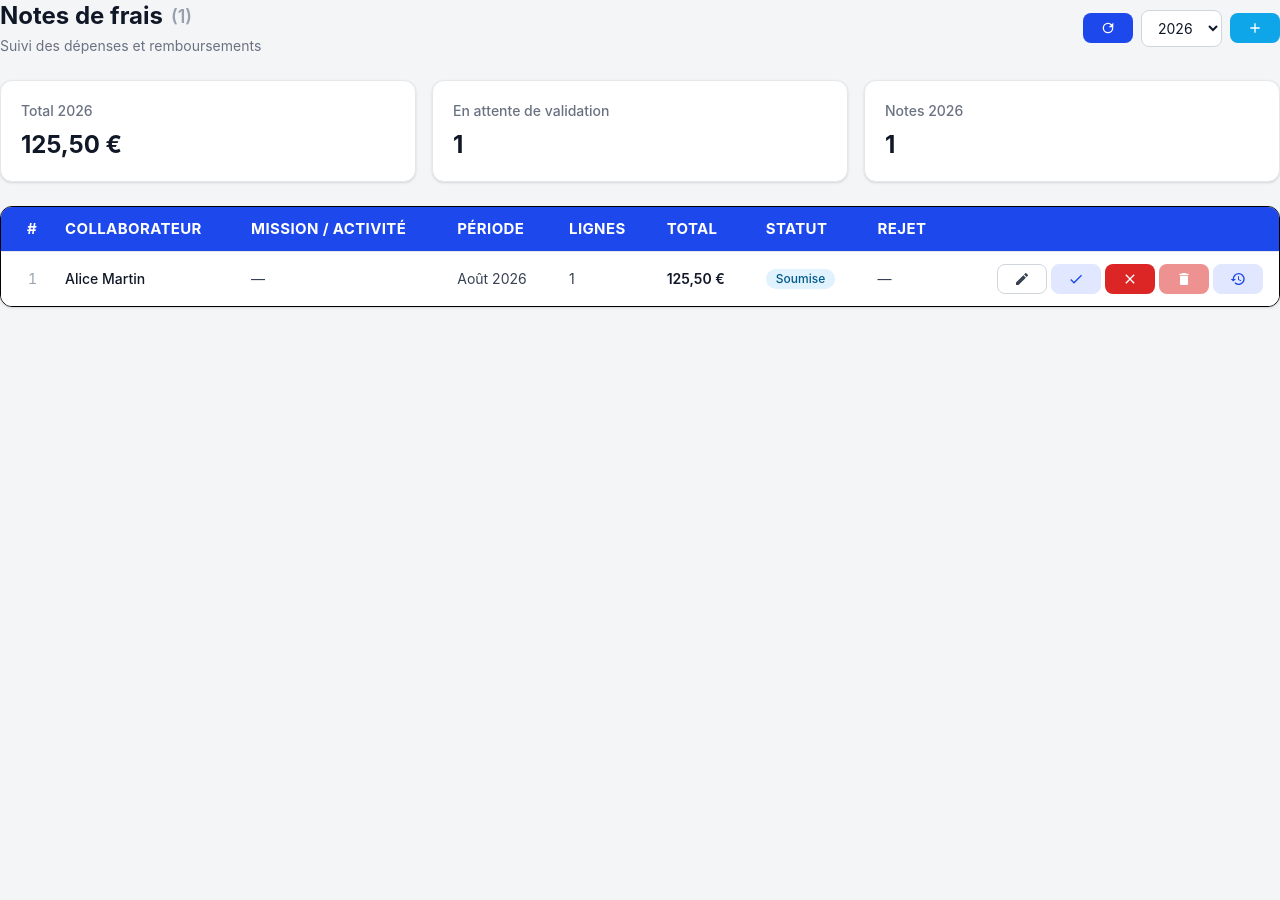
Scenario: NoteFraisList › interdit la suppression de ligne sur une note soumise hors manager du collaborateur
Step 1. Click the text "Alice Martin" → click(105, 278), box [1,252,1279,306]
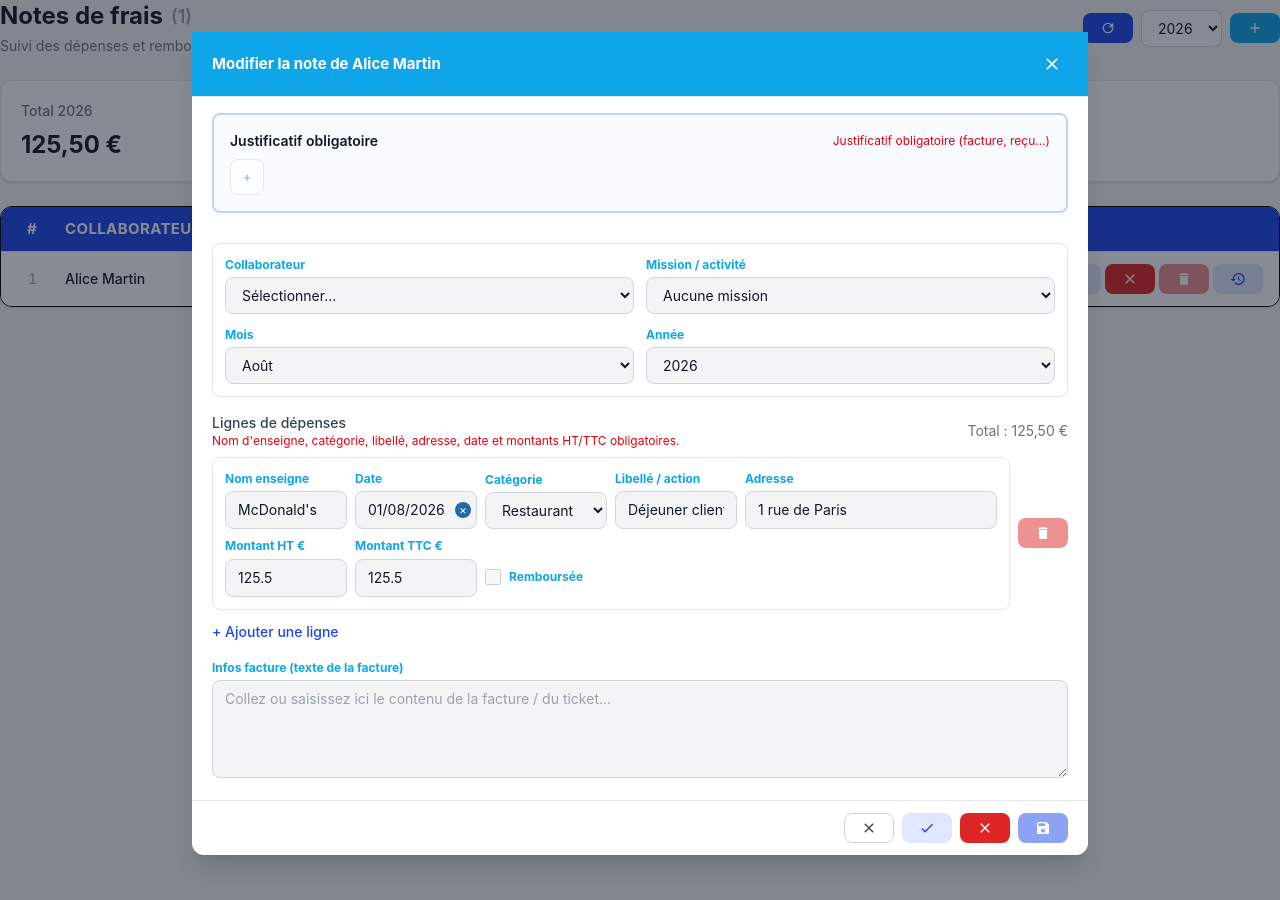
Check: the button named "Enregistrer" is disabled, box [1018,813,1068,843]
Check: the button with id "NoteFraisList" is disabled, box [1018,518,1068,548]
